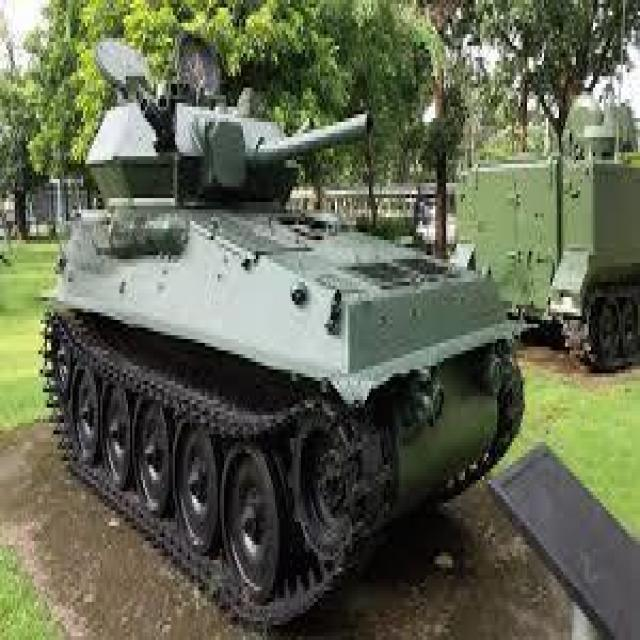MIL_MBT: (45, 55, 529, 623)
